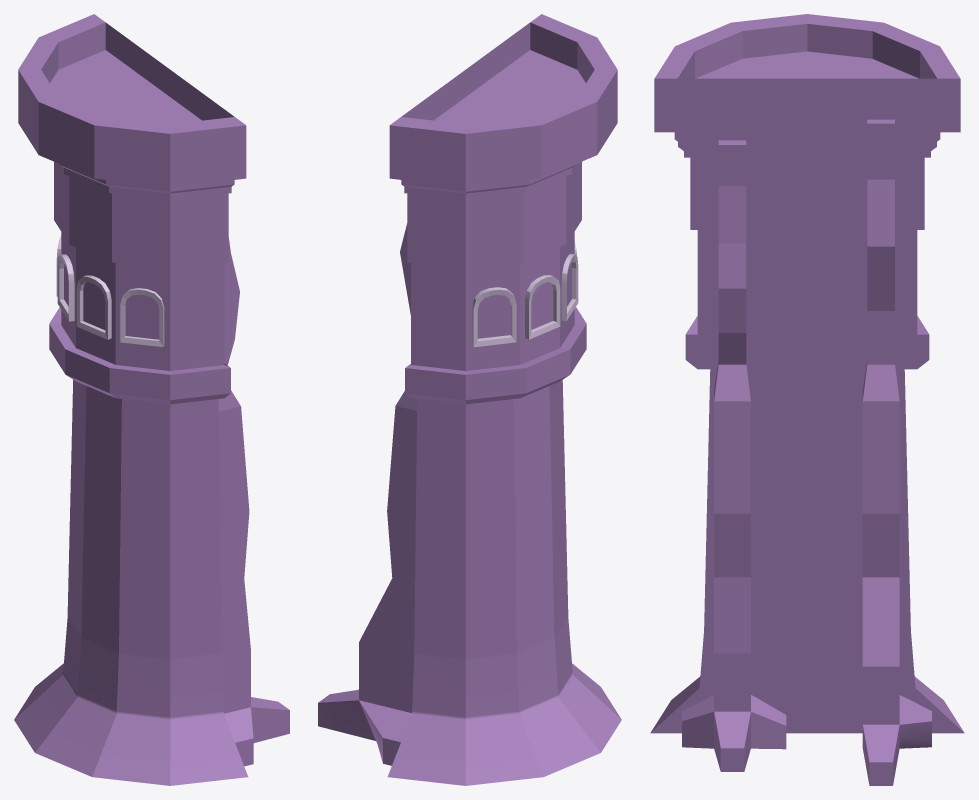
File: Tower_LP.fbx
3 views of the same model, side by side, from view 1: azimuth 30°, elevation 25°; view 2: azimuth 150°, elevation 25°; view 3: azimuth 270°, elevation 25° (orthographic).
Parts seen in each view (by area): view 1: Tower_L, Destruction_L, Windows_L; view 2: Tower_L, Destruction_L, Windows_L; view 3: Tower_L, Destruction_L.
Boxes of the visible parts, x1,y1,x2,y2 form: Tower_L: (14, 14, 248, 785); Destruction_L: (218, 237, 289, 766); Windows_L: (56, 235, 164, 346); Tower_L: (387, 14, 621, 785); Destruction_L: (318, 223, 417, 765); Windows_L: (472, 241, 578, 347); Tower_L: (650, 14, 964, 733); Destruction_L: (682, 119, 931, 785).
Bounding box in the file's own units: 575 × 1493 × 647.
